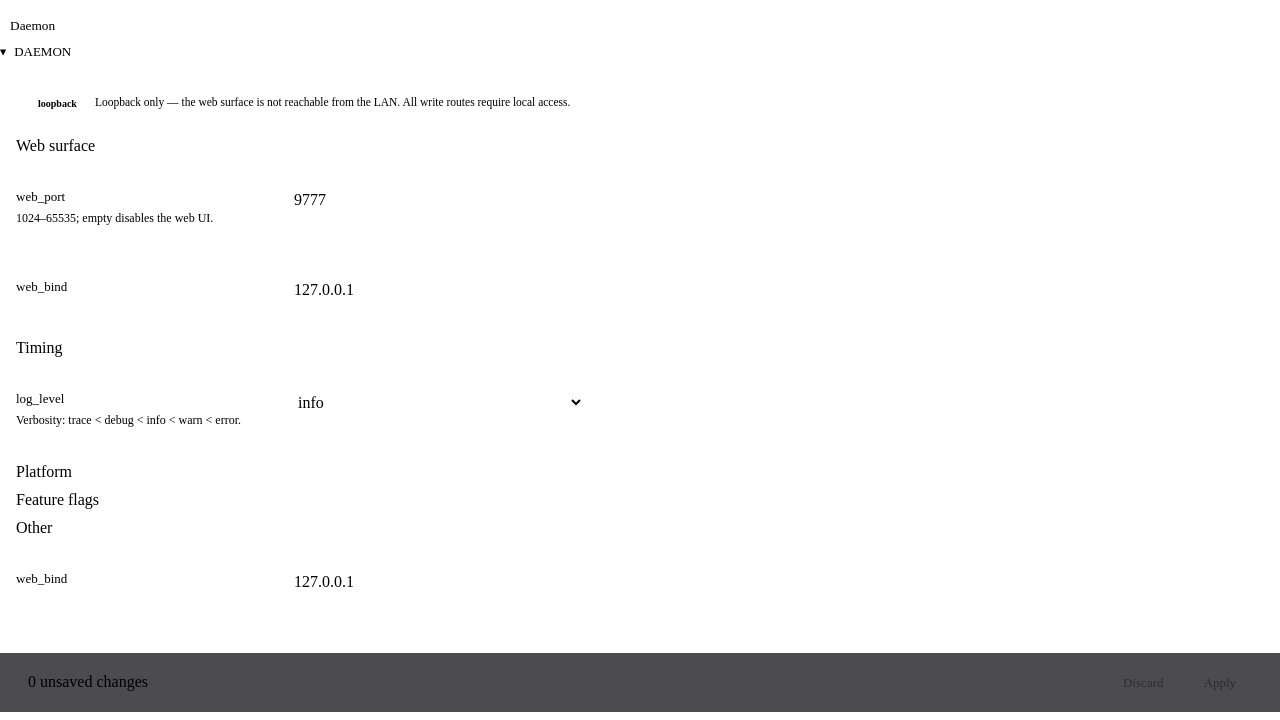
Scenario: SettingsForm › 409 — conflict dialog rendered
Expected: the heading "Daemon" is shown, [14,44,71,60]
Step 1. Select "debug" in the dropdown labelled "log_level" → (434, 402), box [284,386,584,418]
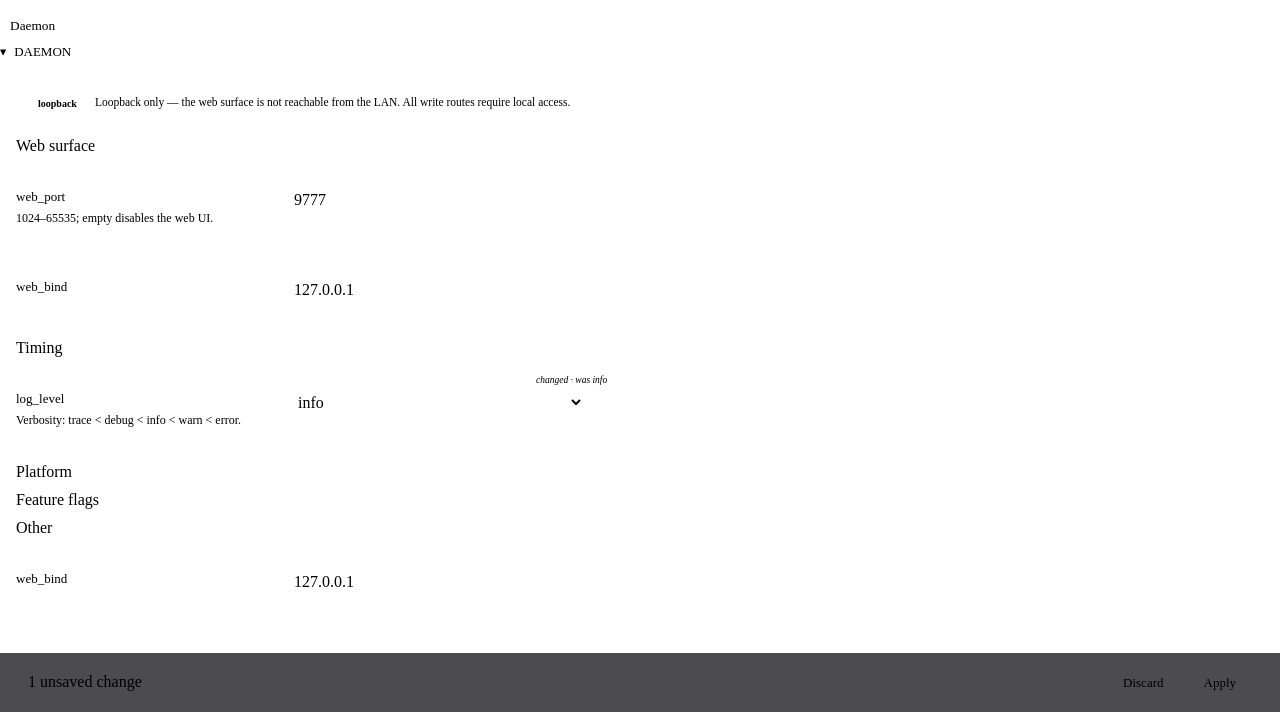
Now the text "1 unsaved change" is shown, box [28,673,142,691]
Step 2. Click the button "Apply" → (1220, 682), box [1188,666,1252,698]
(page scrolled)
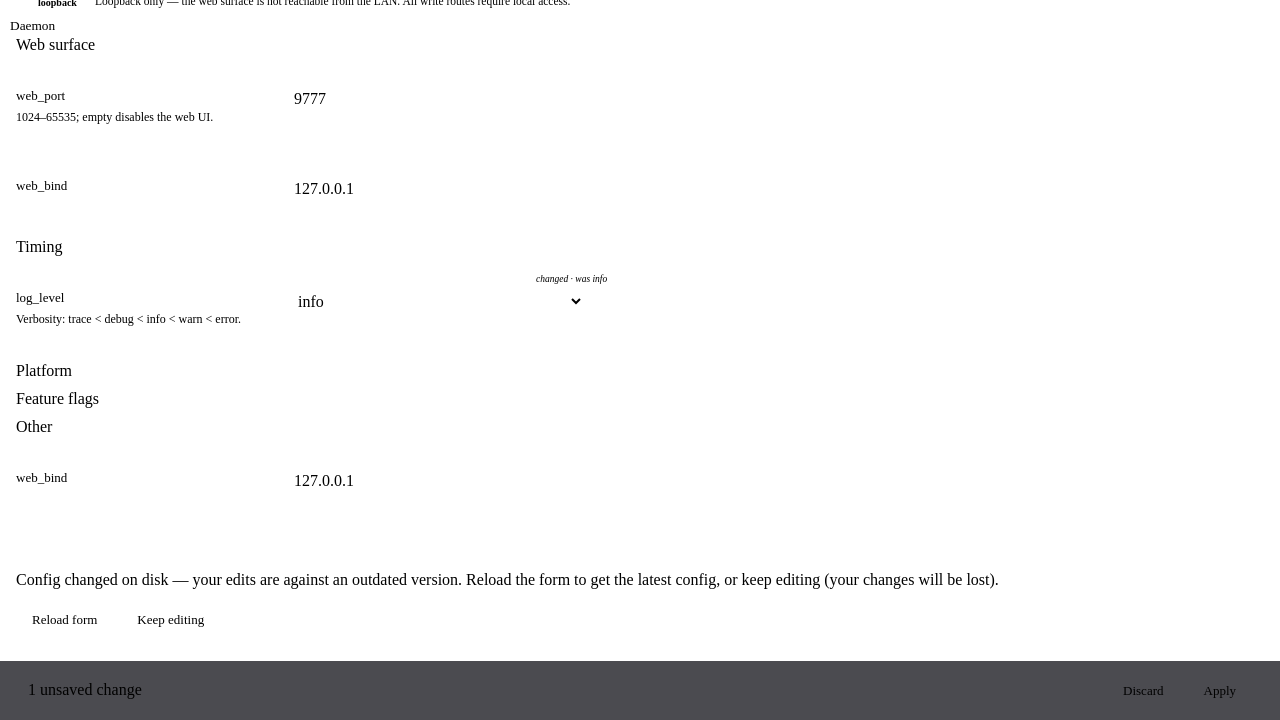
Now the text "Config changed on disk" is shown, box [16,570,999,588]
Now the button "Reload form" is shown, box [16,604,113,634]
Now the button "Keep editing" is shown, box [121,604,220,634]
